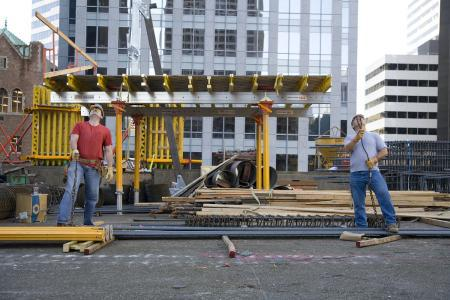helmet: (87, 101, 105, 122), (350, 111, 366, 132)
